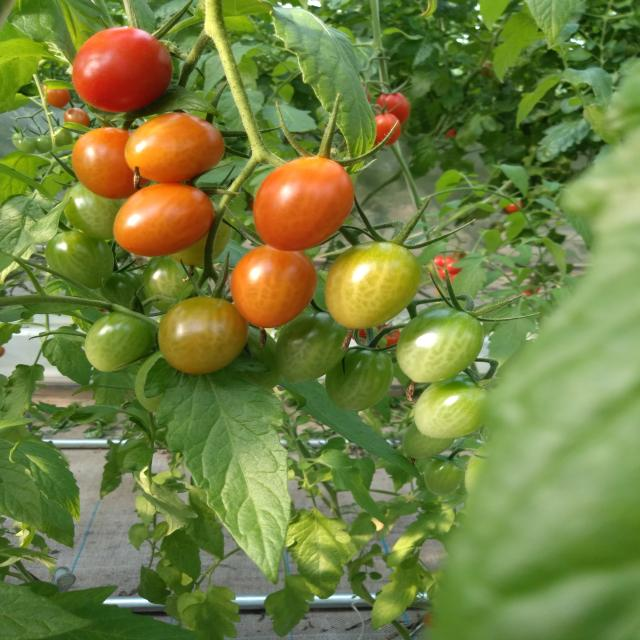c-half-riped: (254, 157, 354, 252), (324, 241, 423, 329), (114, 181, 214, 257), (230, 244, 317, 328), (159, 296, 249, 376), (125, 112, 226, 182), (72, 127, 150, 199), (42, 82, 70, 108), (64, 107, 90, 127)
c-riped: (72, 27, 173, 113), (375, 92, 410, 126), (373, 112, 401, 146)
c-unriped: (397, 307, 483, 383), (412, 374, 495, 439), (275, 312, 348, 382), (84, 309, 156, 373), (326, 346, 394, 412), (168, 200, 232, 267), (45, 229, 115, 289), (224, 324, 282, 390), (63, 181, 128, 239), (142, 255, 200, 314), (134, 348, 167, 414), (402, 422, 457, 459), (424, 456, 464, 496), (53, 126, 74, 150), (33, 135, 54, 155), (18, 138, 36, 154), (12, 131, 28, 148)
